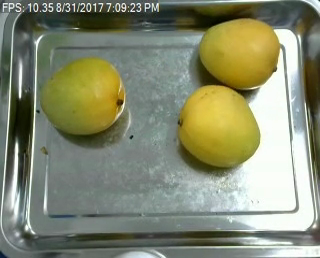Mango: (37, 58, 126, 136), (180, 87, 259, 168), (200, 18, 282, 89)
